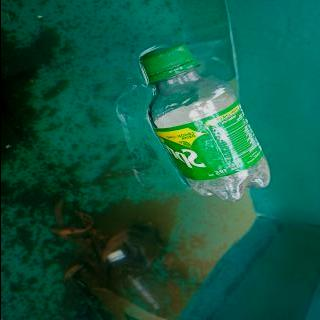bottle: (138, 44, 271, 202)
